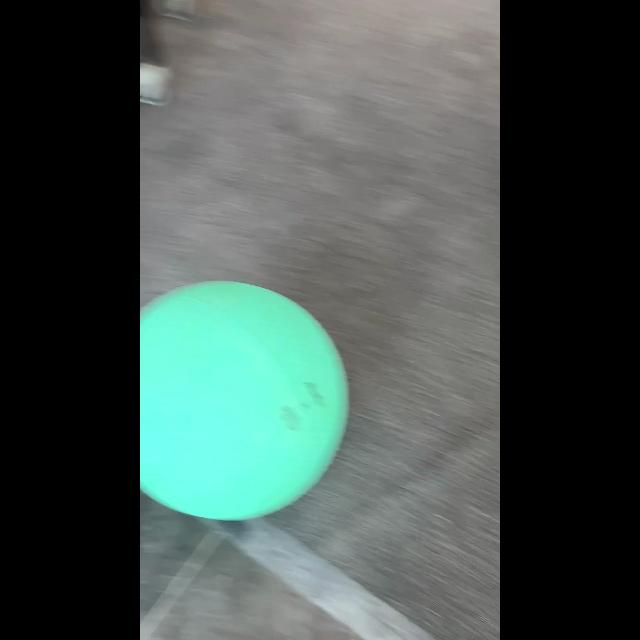ALGAE: (140, 279, 350, 521)
